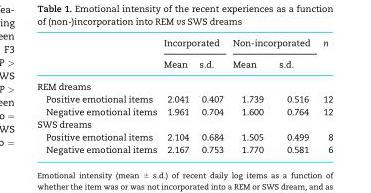table: (36, 37, 332, 154)
table column: (36, 37, 159, 154), (270, 37, 315, 154), (227, 37, 270, 154), (159, 37, 193, 154), (193, 37, 227, 154), (315, 37, 332, 154)
table column header: (36, 37, 332, 74)
table projected row header: (36, 74, 332, 92), (36, 117, 332, 130)
table row: (36, 53, 332, 74), (36, 74, 332, 92), (36, 37, 332, 53), (36, 104, 332, 117), (36, 117, 332, 130), (36, 92, 332, 104), (36, 130, 332, 142), (36, 142, 332, 154)
table spanning cell: (227, 37, 315, 53), (159, 37, 227, 53), (315, 37, 332, 74)
